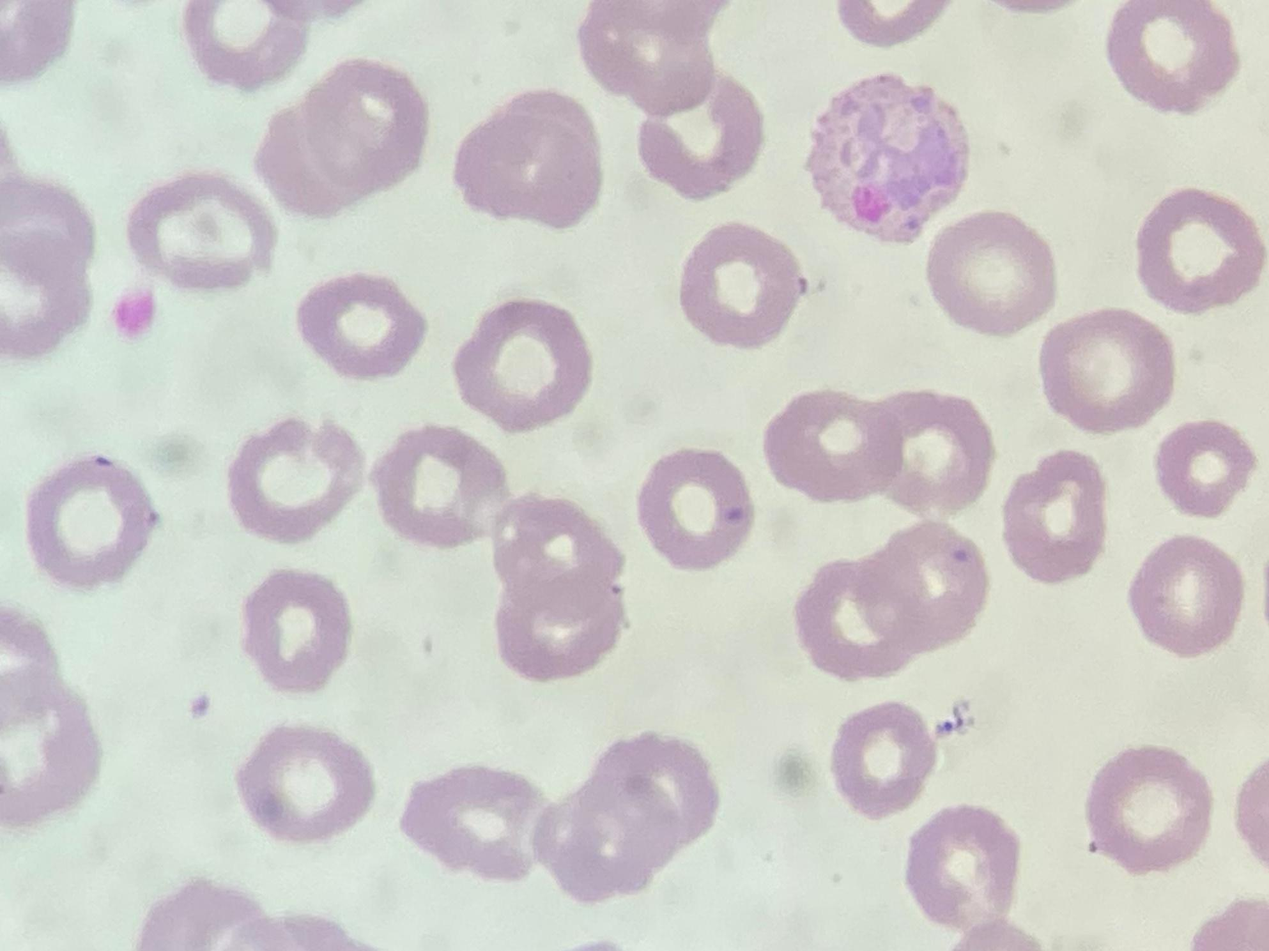Infected: (814, 75, 973, 242)
Uninfected: (534, 734, 712, 901), (797, 521, 988, 676), (256, 57, 427, 217), (489, 494, 627, 680), (452, 89, 603, 229), (456, 295, 592, 435), (125, 170, 278, 293), (1, 171, 98, 358), (24, 453, 156, 588), (227, 415, 364, 542), (375, 423, 511, 545), (1135, 185, 1265, 312), (636, 75, 764, 202), (866, 390, 996, 515), (580, 2, 726, 113), (402, 767, 544, 881), (763, 388, 900, 504), (1085, 745, 1211, 871), (678, 222, 805, 347), (1038, 309, 1169, 430), (239, 725, 373, 843), (927, 211, 1056, 331), (295, 271, 428, 383), (1107, 0, 1238, 109), (1127, 534, 1243, 656), (905, 809, 1022, 929), (637, 449, 755, 567), (1001, 452, 1107, 581), (828, 702, 941, 819), (243, 571, 348, 694), (185, 2, 307, 90), (1153, 417, 1259, 517)
